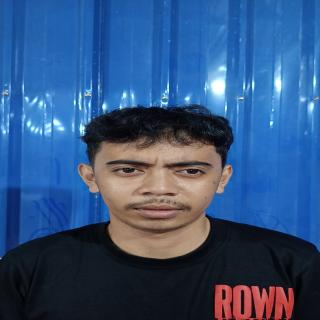Marah: (85, 125, 227, 233)
